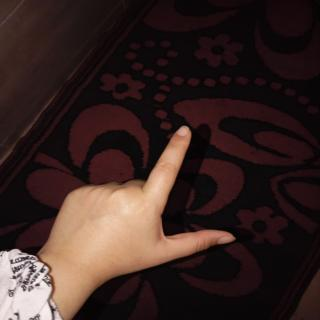LAAM: (35, 118, 248, 288)
